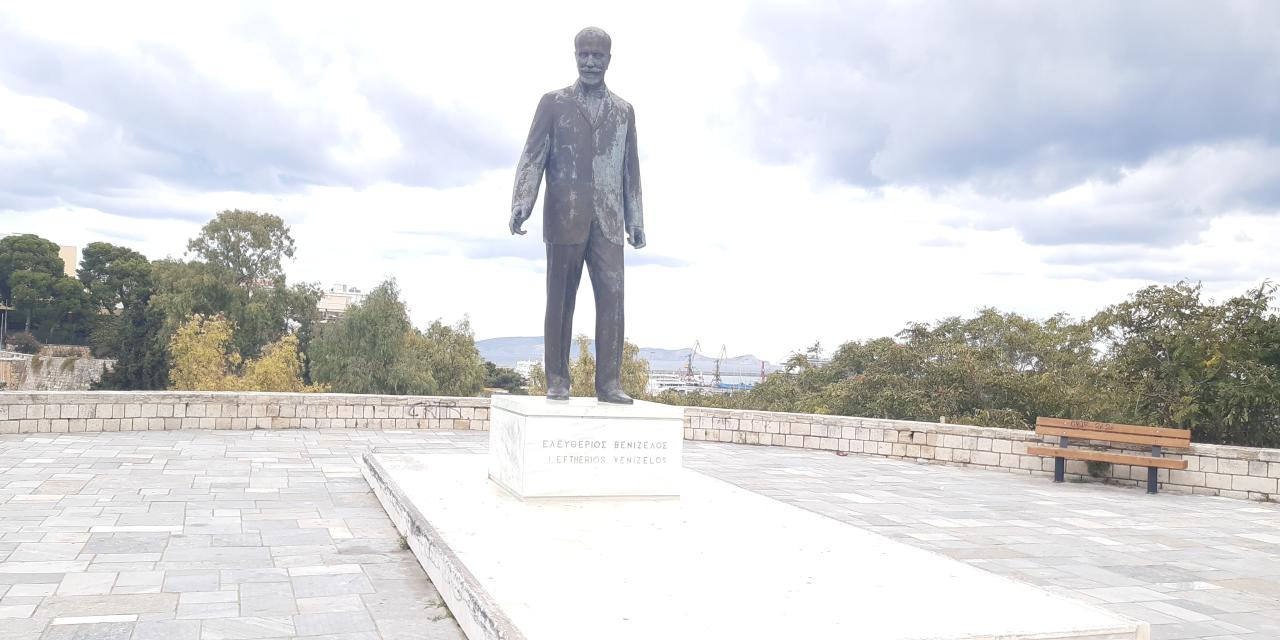Venizelos: (514, 30, 647, 404)
